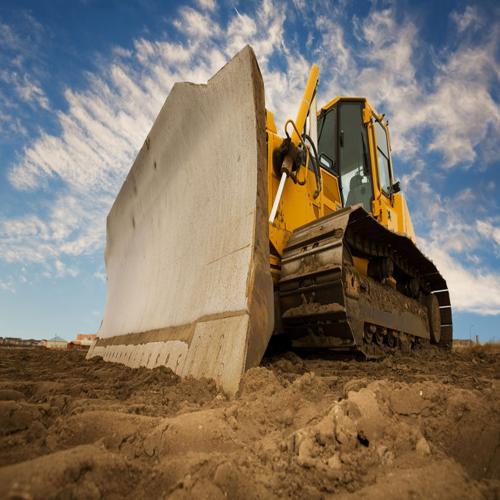con_eq: (90, 48, 465, 386)
